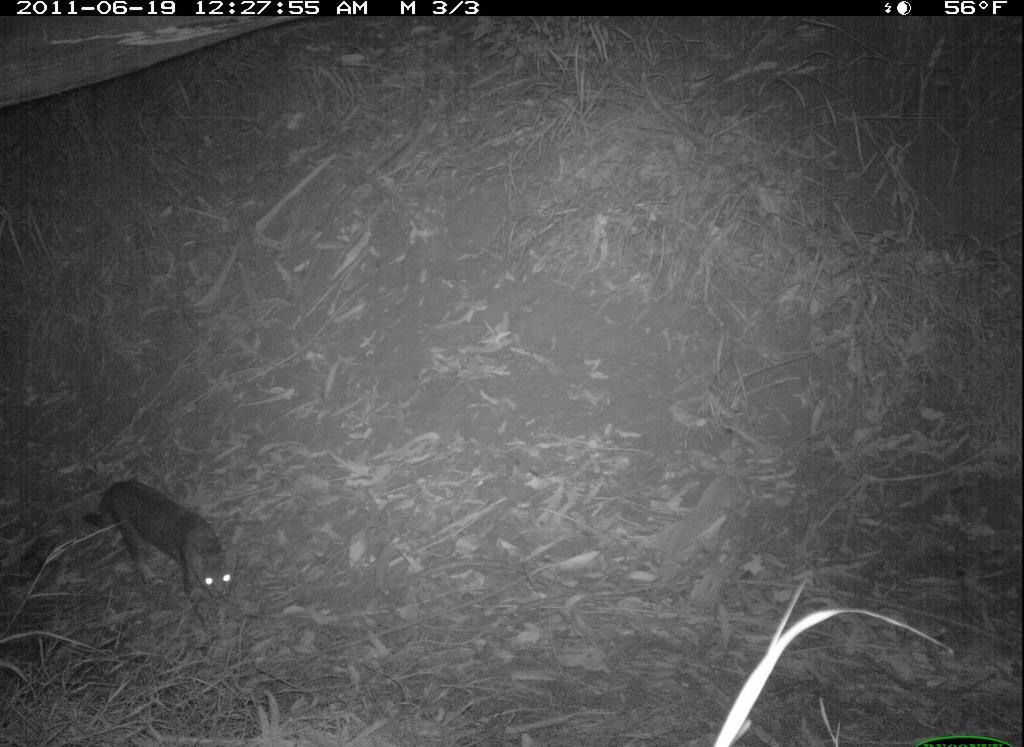cat: (67, 469, 246, 639)
